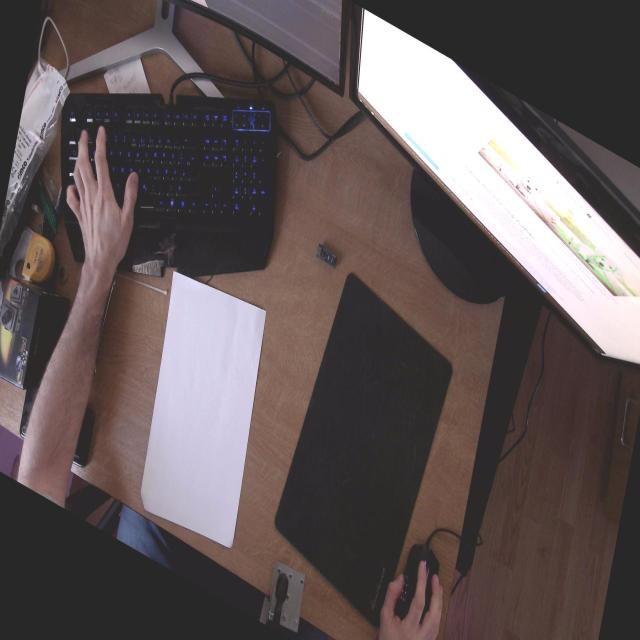keyboard-with-hands: (61, 91, 278, 267)
